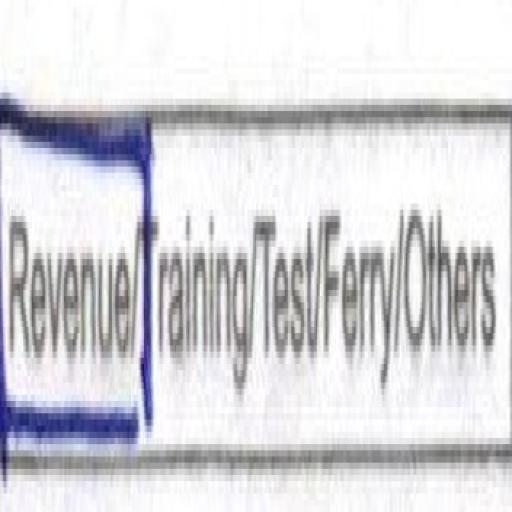check: (0, 55, 157, 506)
